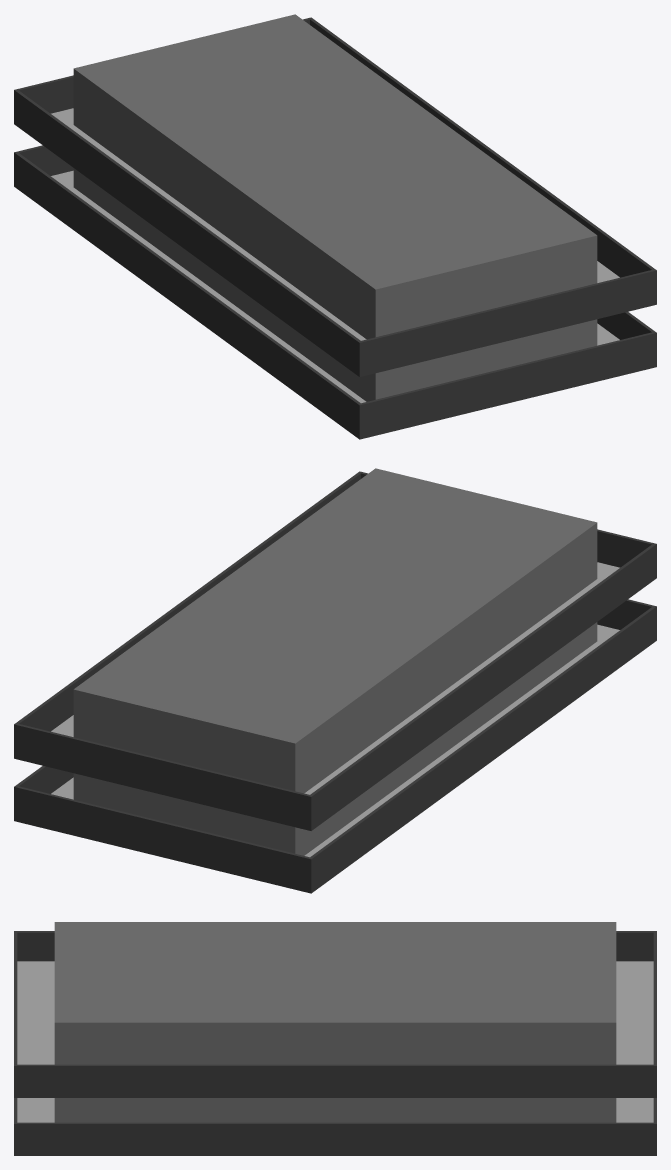
Rendered from stage.fbx.
3 views of the same model, one above another, from view 1: azimuth 30°, elevation 25°; view 2: azimuth 150°, elevation 25°; view 3: azimuth 270°, elevation 25° (orthographic). The views are drawn at different scales.
Parts seen in each view (by area): view 1: Room_2F, Wall_2F, Wall_1F, Room_1F, Floor_1F, Floor_2F; view 2: Room_2F, Wall_2F, Wall_1F, Room_1F, Floor_1F, Floor_2F; view 3: Room_2F, Wall_2F, Wall_1F, Room_1F, Floor_2F, Floor_1F.
Boxes of the visible parts, left/top/right/bottom form: Room_2F: left=73, top=14, right=597, bottom=339; Wall_2F: left=14, top=17, right=656, bottom=376; Wall_1F: left=14, top=145, right=656, bottom=439; Room_1F: left=73, top=168, right=597, bottom=401; Floor_1F: left=51, top=170, right=619, bottom=403; Floor_2F: left=51, top=108, right=619, bottom=340; Room_2F: left=73, top=468, right=597, bottom=793; Wall_2F: left=14, top=471, right=656, bottom=830; Wall_1F: left=14, top=599, right=656, bottom=893; Room_1F: left=73, top=622, right=597, bottom=855; Floor_1F: left=51, top=624, right=619, bottom=857; Floor_2F: left=51, top=562, right=619, bottom=794; Room_2F: left=54, top=922, right=616, bottom=1064; Wall_2F: left=14, top=931, right=656, bottom=1097; Wall_1F: left=14, top=1098, right=656, bottom=1155; Room_1F: left=54, top=1098, right=616, bottom=1122; Floor_2F: left=17, top=961, right=653, bottom=1064; Floor_1F: left=17, top=1098, right=653, bottom=1122.
Bounding box in the file's own units: 817 × 328 × 1646.
